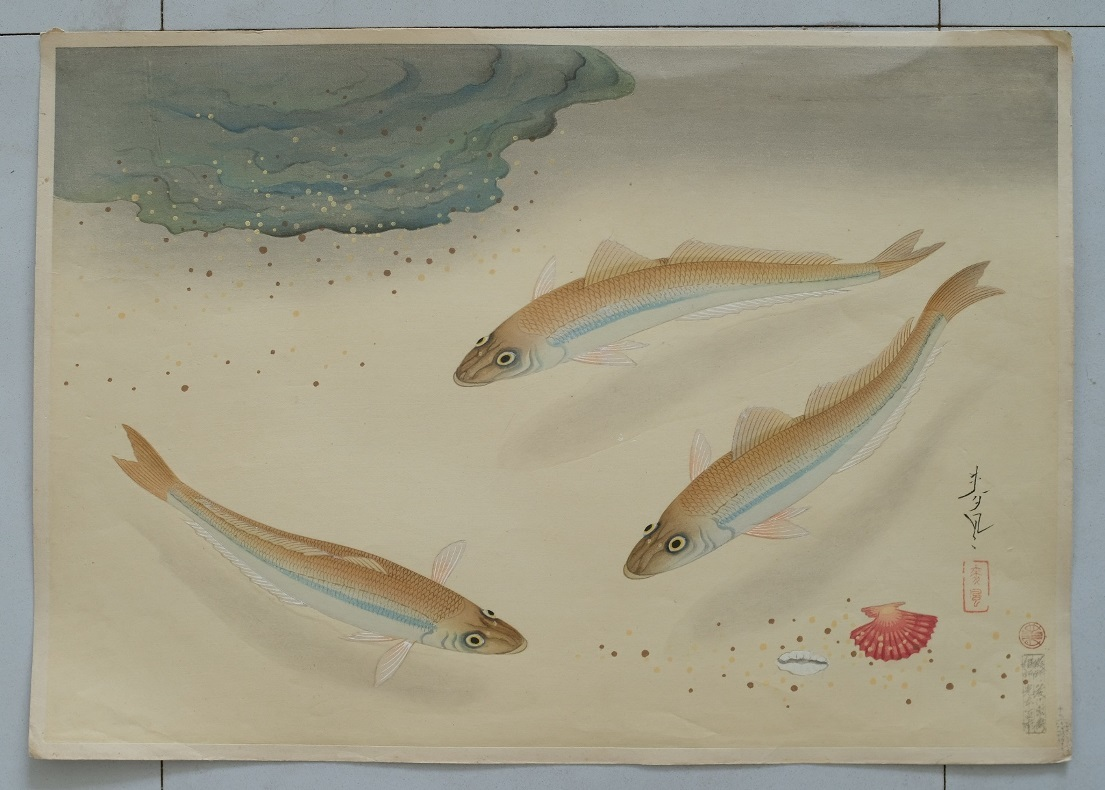kiss: (613, 254, 1012, 589), (108, 420, 534, 693), (443, 225, 950, 398)
